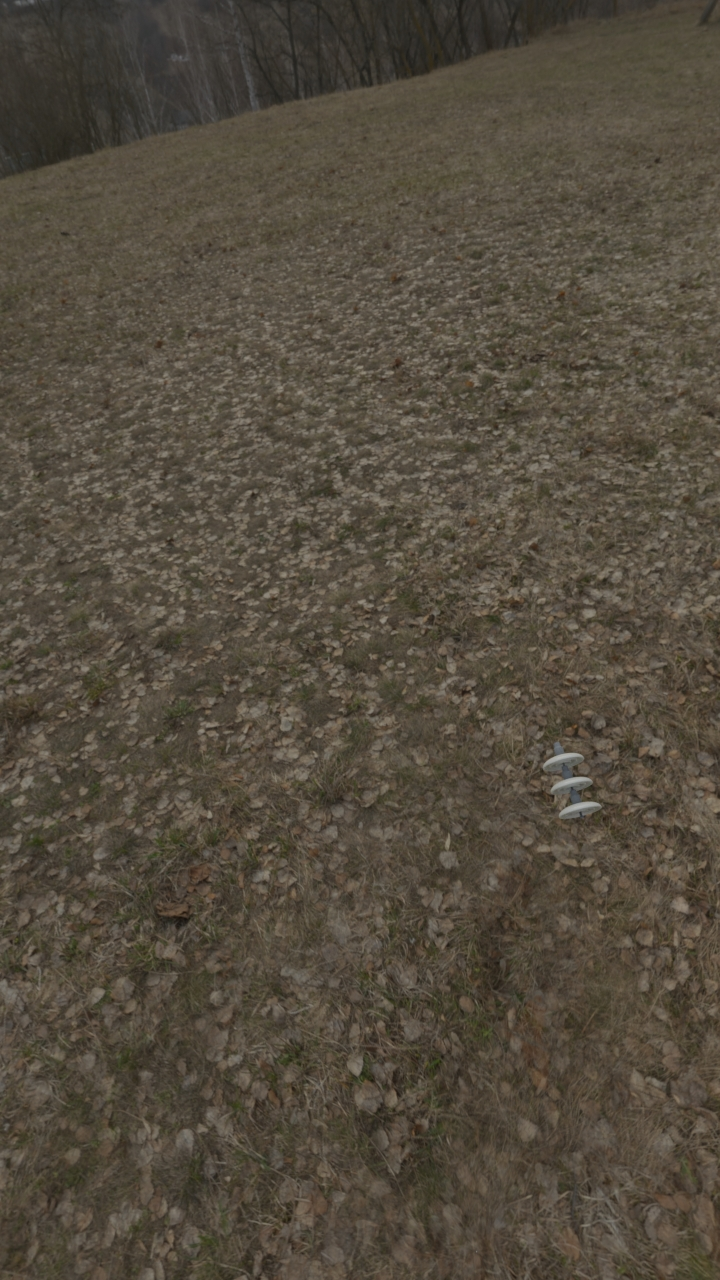ceramicinsulators: (544, 742, 600, 819)
